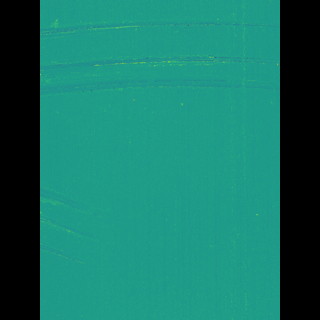Loch: (69, 11, 251, 102), (69, 180, 131, 269)
